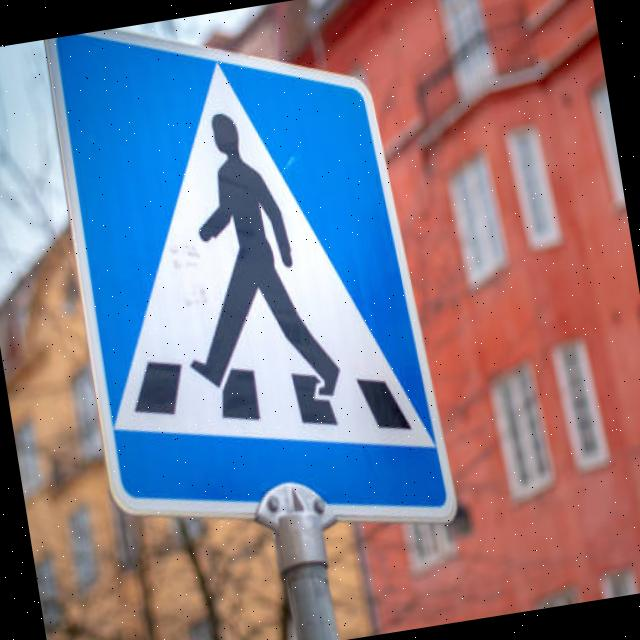crosswalk: (28, 0, 464, 581)
